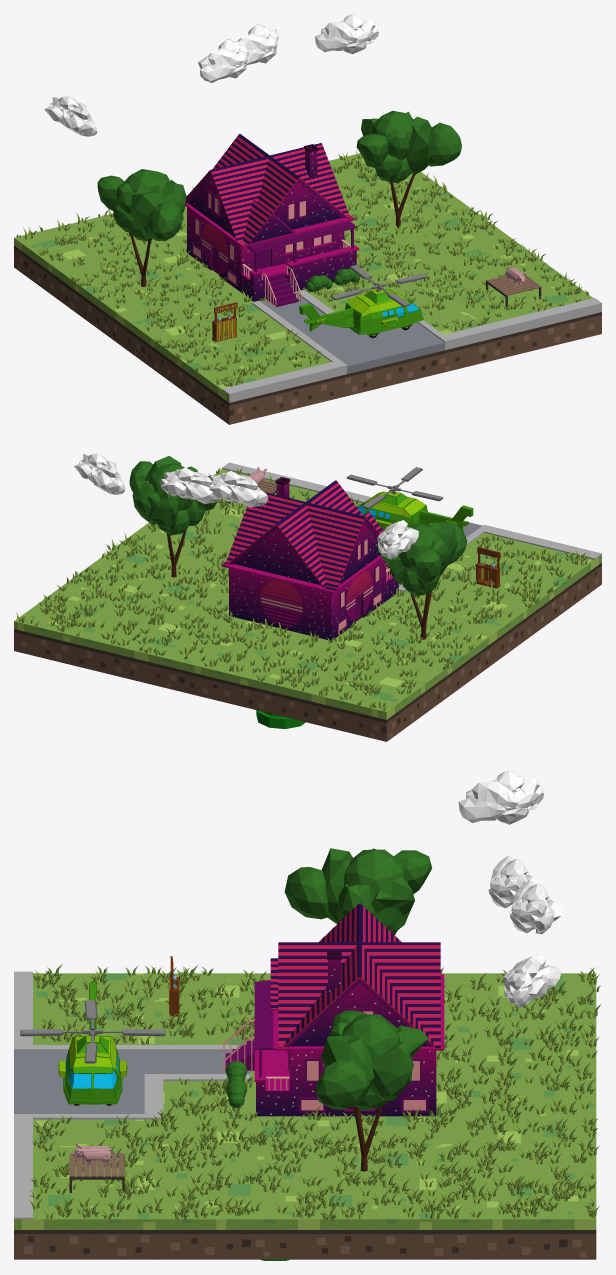
The picture shows the model from 3 angles, top to bottom: view 1: azimuth 30°, elevation 25°; view 2: azimuth 150°, elevation 25°; view 3: azimuth 270°, elevation 25°; orthographic projection. The views are drawn at different scales.
Visible parts, largest first — view 1: Cube.006, Cube.156, Circle.012_Grass_0.192, Cube.007, tree, tree.001, VEHICLES_HELICOPTER, OBJRANDOM_LEMONADE_STAND, Cube.009; view 2: Cube.006, Cube.156, Circle.012_Grass_0.192, Cube.007, tree.001, tree, VEHICLES_HELICOPTER, OBJRANDOM_LEMONADE_STAND, UNDERGROUND_PIPES; view 3: Cube.006, Circle.012_Grass_0.192, Cube.156, tree, Cube.007, tree.001, VEHICLES_HELICOPTER, Cube.009.
Boxes of the visible parts, x1,y1,x2,y2 form: Cube.006: (14, 153, 601, 424); Cube.156: (185, 134, 359, 308); Circle.012_Grass_0.192: (16, 150, 588, 386); Cube.007: (44, 14, 378, 136); tree: (356, 110, 461, 228); tree.001: (97, 169, 186, 286); VEHICLES_HELICOPTER: (299, 265, 427, 338); OBJRANDOM_LEMONADE_STAND: (212, 302, 237, 342); Cube.009: (486, 275, 541, 306); Cube.006: (14, 462, 601, 741); Cube.156: (221, 477, 398, 640); Circle.012_Grass_0.192: (16, 468, 588, 711); Cube.007: (74, 453, 418, 559); tree.001: (375, 521, 467, 639); tree: (129, 456, 216, 577); VEHICLES_HELICOPTER: (346, 467, 473, 530); OBJRANDOM_LEMONADE_STAND: (475, 547, 500, 588); UNDERGROUND_PIPES: (256, 710, 305, 728); Cube.006: (14, 971, 596, 1259); Circle.012_Grass_0.192: (29, 964, 600, 1220); Cube.156: (223, 903, 444, 1116); tree: (315, 1010, 428, 1171); Cube.007: (458, 770, 561, 1007); tree.001: (284, 848, 432, 935); VEHICLES_HELICOPTER: (20, 982, 165, 1105); Cube.009: (69, 1152, 124, 1192).
Bounding box in the file's own units: 4071 × 2759 × 4040.
Materials: 38 (5 with a texture image).
